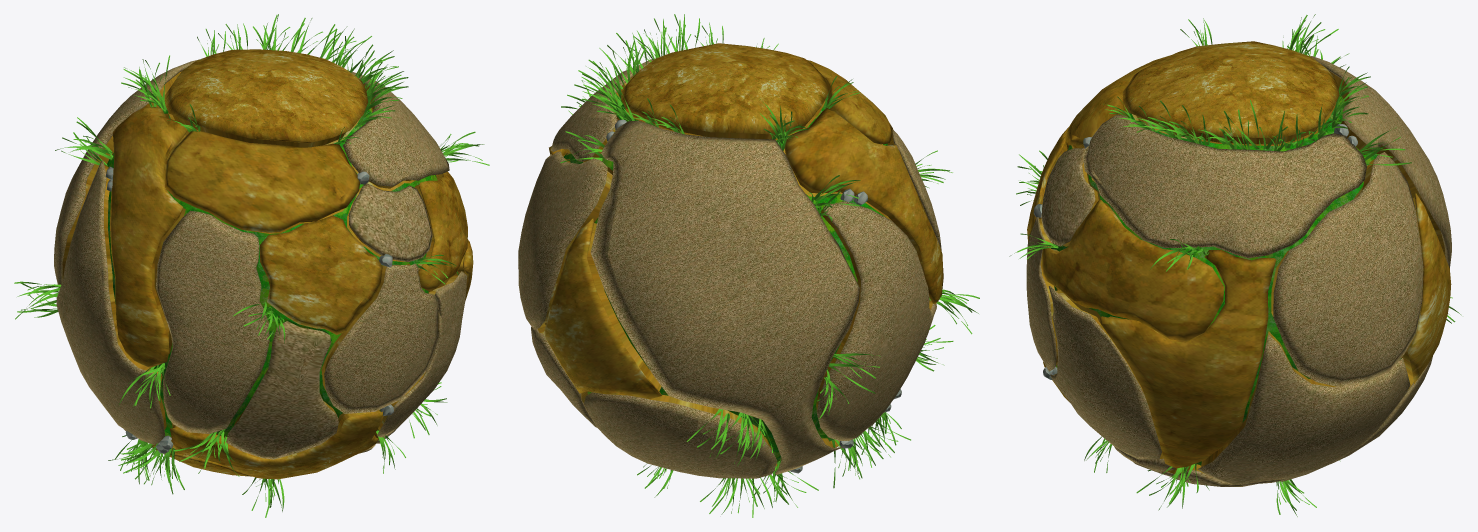
Rendered from planet_grassy.obj.
3 renders of one model, left to right at view 1: azimuth 30°, elevation 25°; view 2: azimuth 150°, elevation 25°; view 3: azimuth 270°, elevation 25°, orthographic. The views are drawn at different scales.
Parts seen in each view (by area): view 1: n2b0_ID53, n4b3_ID71, n5b4_ID80, n6b6_ID89, n1b2_ID44, n7b7_ID98, n3b1_ID62, n0b5_ID35, n8b8_ID107; view 2: n2b0_ID53, n6b6_ID89, n5b4_ID80, n7b7_ID98, n4b3_ID71, n3b1_ID62, n0b5_ID35, n8b8_ID107; view 3: n2b0_ID53, n5b4_ID80, n6b6_ID89, n4b3_ID71, n7b7_ID98, n3b1_ID62, n1b2_ID44, n0b5_ID35, n8b8_ID107.
Boxes of the visible parts, x1,y1,x2,y2 form: n2b0_ID53: [54, 59, 467, 444]; n4b3_ID71: [109, 107, 467, 476]; n5b4_ID80: [164, 131, 473, 479]; n6b6_ID89: [164, 49, 368, 143]; n1b2_ID44: [226, 183, 432, 459]; n7b7_ID98: [14, 14, 489, 517]; n3b1_ID62: [62, 71, 465, 459]; n0b5_ID35: [107, 104, 458, 436]; n8b8_ID107: [105, 49, 393, 453]; n2b0_ID53: [518, 58, 941, 478]; n6b6_ID89: [621, 43, 828, 134]; n5b4_ID80: [543, 60, 892, 398]; n7b7_ID98: [560, 14, 979, 517]; n4b3_ID71: [775, 108, 943, 470]; n3b1_ID62: [537, 77, 932, 469]; n0b5_ID35: [563, 98, 887, 462]; n8b8_ID107: [606, 119, 901, 473]; n2b0_ID53: [1026, 56, 1451, 484]; n5b4_ID80: [1043, 46, 1451, 468]; n6b6_ID89: [1122, 41, 1339, 138]; n4b3_ID71: [1027, 127, 1224, 341]; n7b7_ID98: [1009, 14, 1461, 516]; n3b1_ID62: [1039, 71, 1445, 473]; n1b2_ID44: [1041, 148, 1285, 486]; n0b5_ID35: [1051, 94, 1401, 465]; n8b8_ID107: [1033, 124, 1357, 379].
Bounding box in the file's own units: 17.74 × 18.46 × 17.25.
Materials: 6 (6 with a texture image).
